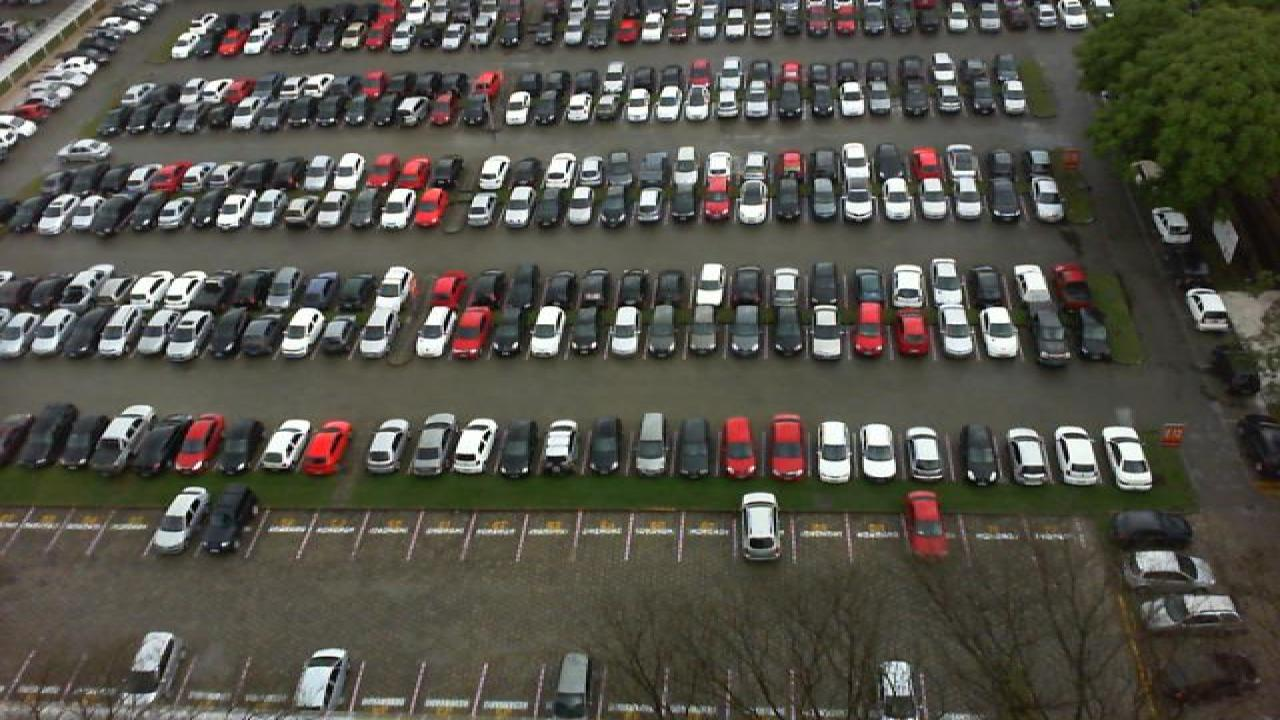Car: (124, 630, 180, 711), (200, 484, 260, 558), (94, 403, 158, 471), (156, 484, 212, 557), (902, 488, 956, 562), (296, 647, 350, 720), (1122, 548, 1210, 592), (1136, 592, 1240, 628), (360, 413, 420, 475), (406, 411, 462, 477), (1104, 424, 1158, 491), (734, 490, 784, 562), (28, 403, 82, 469), (168, 411, 224, 474), (1108, 507, 1194, 547), (1052, 426, 1106, 488), (872, 658, 924, 720), (1006, 424, 1056, 488), (258, 419, 314, 474), (218, 416, 270, 475), (550, 651, 594, 720), (300, 419, 352, 477), (448, 416, 498, 475), (902, 425, 948, 487), (766, 412, 806, 482), (582, 415, 626, 478), (60, 415, 110, 470), (958, 422, 1000, 487), (632, 411, 672, 479), (814, 417, 854, 484), (490, 419, 536, 477), (538, 417, 582, 477), (720, 414, 760, 480), (858, 424, 900, 486), (676, 417, 716, 480), (138, 416, 184, 470), (1182, 287, 1236, 333), (0, 411, 40, 470), (1148, 204, 1196, 248)
